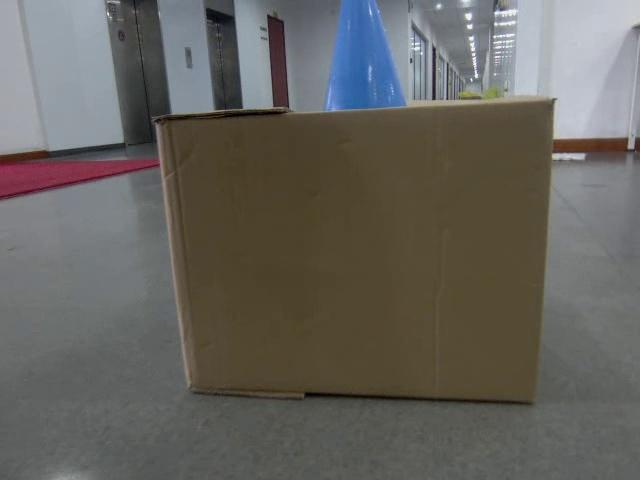blue_barrel: (321, 0, 408, 113)
